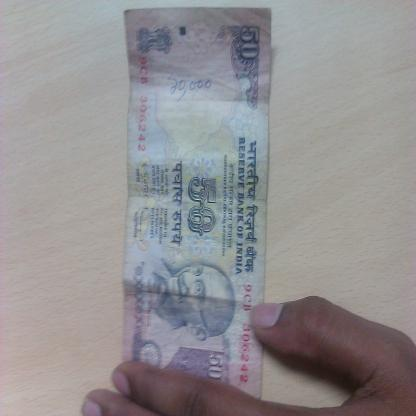Old50Front: (124, 6, 272, 400)
